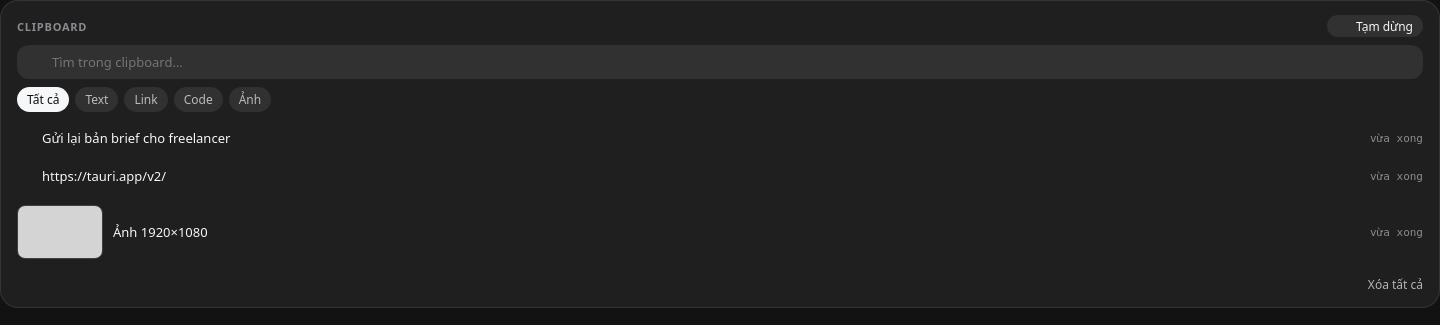
ClipboardCard › filters by chip and by search, and tells the two empty states apart
Expected: the text "Gửi lại bản brief cho freelancer" is shown, [42,129,230,147]
Click the button "Link" at {"x": 146, "y": 100}, box [124,87,168,112]
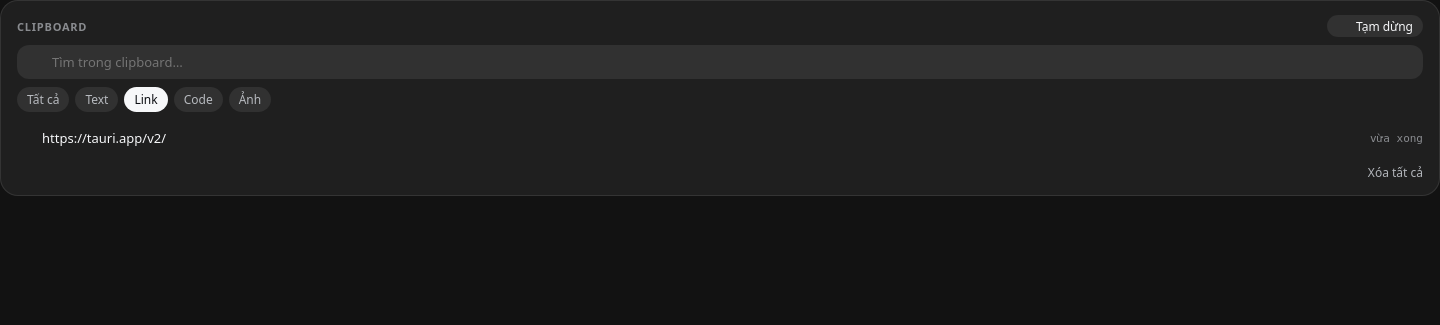
Expected: the text "https://tauri.app/v2/" is shown, [42,129,166,147]
Result: the button "Gửi lại bản brief cho freelancer" is gone
Click the button "Tất cả" at {"x": 43, "y": 100}, box [17,87,69,112]
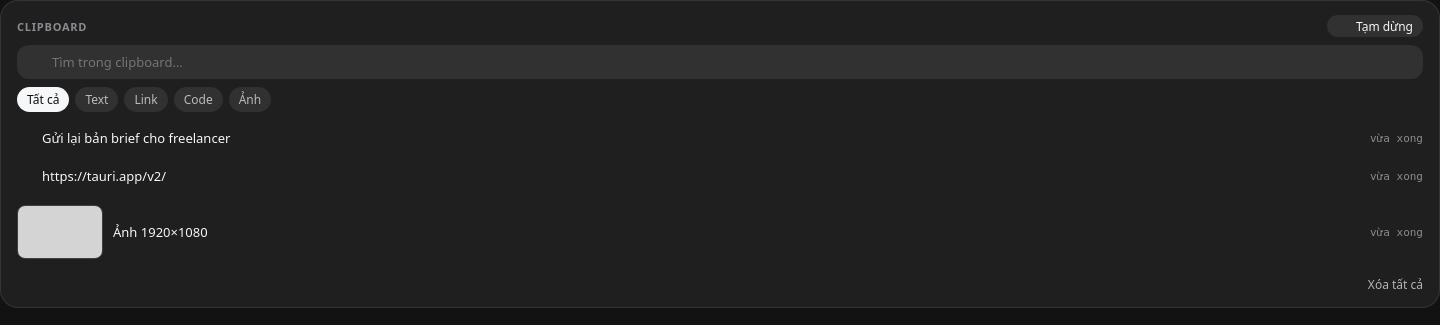
Type "gui lai" into the field labelled "Tìm trong clipboard" at {"x": 734, "y": 62}, box [52,53,1415,71]
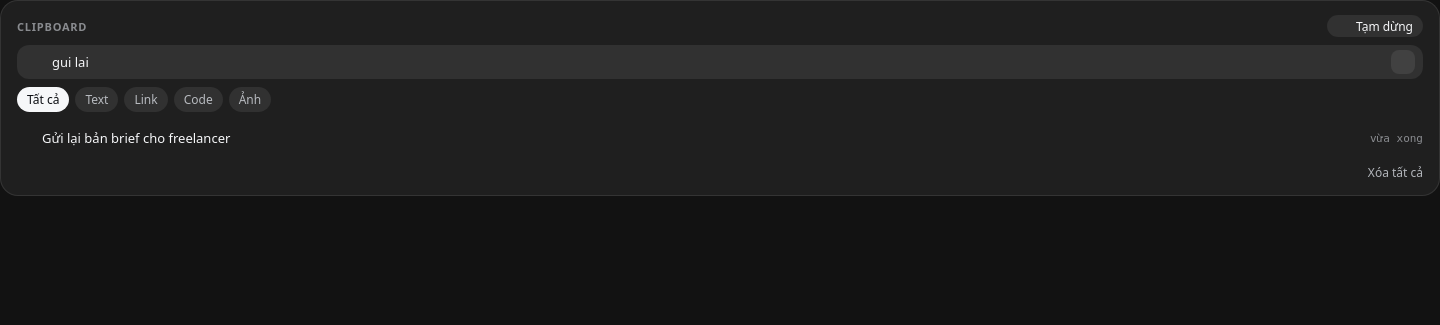
Result: the text "Gửi lại bản brief cho freelancer" is shown at [42,129,230,147]
Result: the button "https://tauri.app/v2/" is gone
Replace the text in the field named "Tìm trong clipboard" with "khong co gi" at {"x": 718, "y": 62}, box [52,53,1383,71]
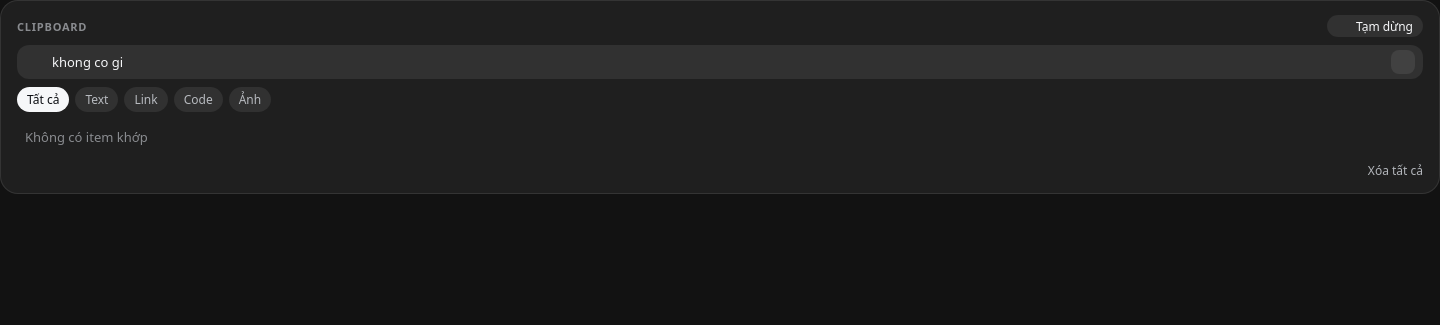
Result: the text "Không có item khớp" is shown at [25,128,148,146]
